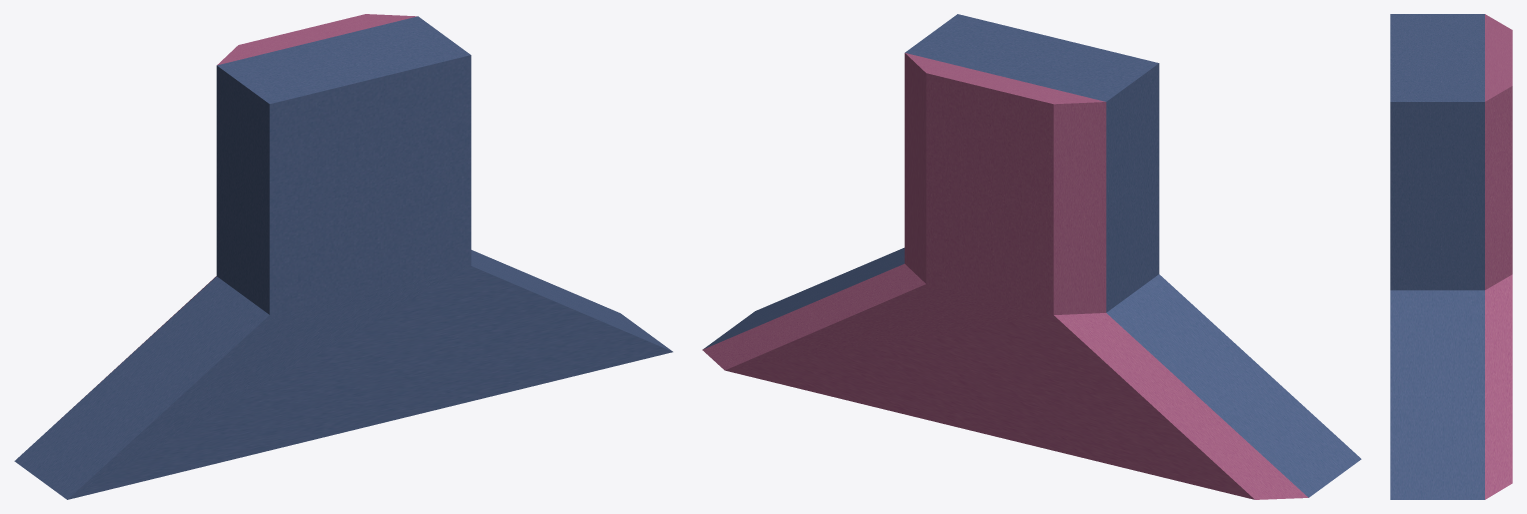
The model's file is de_pink_1.fbx.
3 renders of one model, left to right at view 1: azimuth 30°, elevation 25°; view 2: azimuth 150°, elevation 25°; view 3: azimuth 270°, elevation 25°, orthographic. The views are drawn at different scales.
Visible parts, largest first — view 1: Cube.316; view 2: Cube.316; view 3: Cube.316.
Part boxes in pixels (x1,y1,x2,y2): Cube.316: [14, 14, 672, 499]; Cube.316: [702, 14, 1361, 499]; Cube.316: [1390, 14, 1512, 499].
Bounding box in the file's own units: 529 × 289 × 103.
